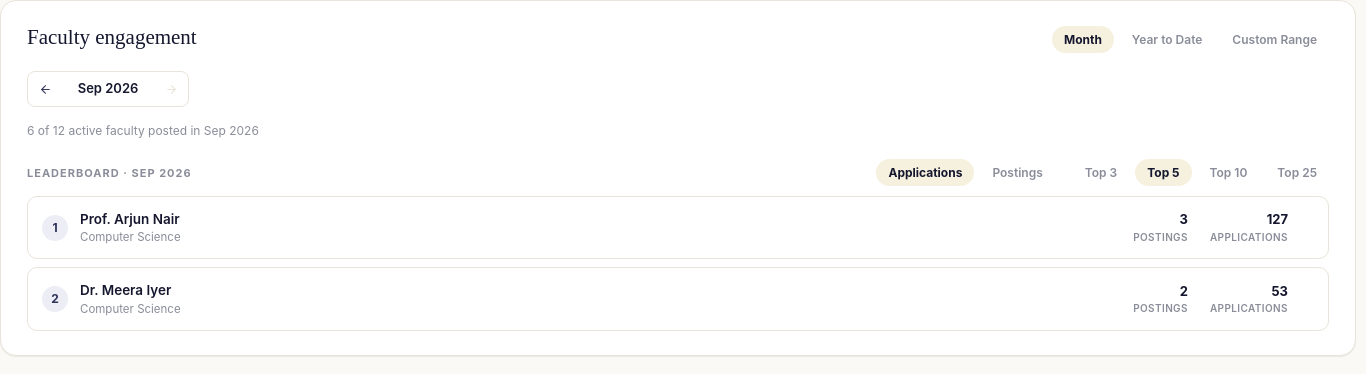
Test case: FacultyEngagement › switches to Year to Date, refetching with mode=ytd and no month
Expected: the text "Prof. Arjun Nair" is shown, [80,211,180,227]
Step 1. Click the button "Year to Date" → (1167, 40), box [1120,26,1214,53]
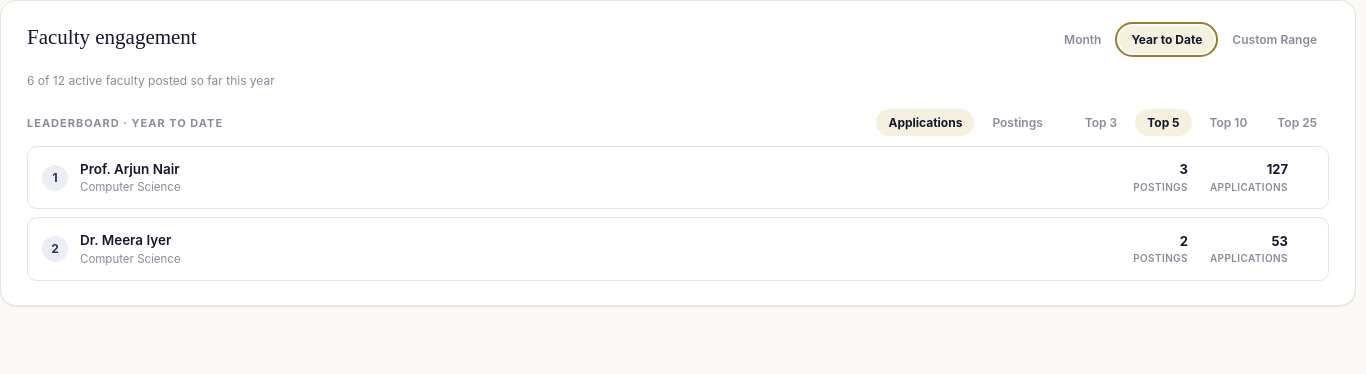
Now the text "6 of 12 active faculty posted so far this year" is shown, box [27,73,275,88]
